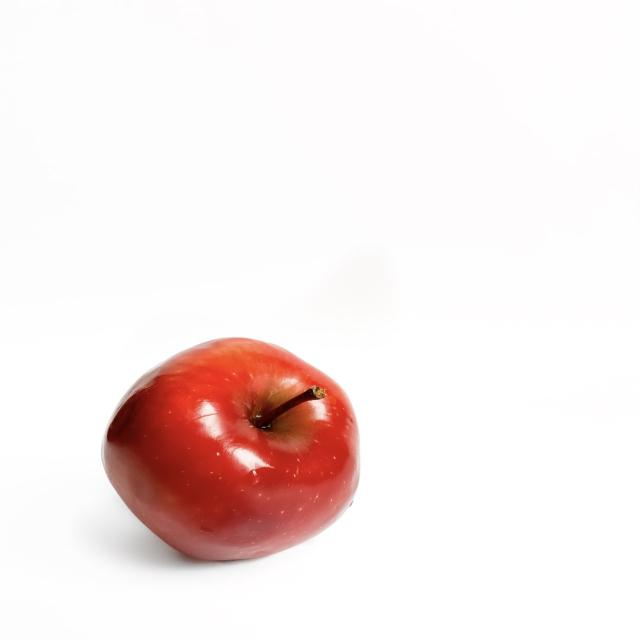apple: (100, 333, 365, 563)
